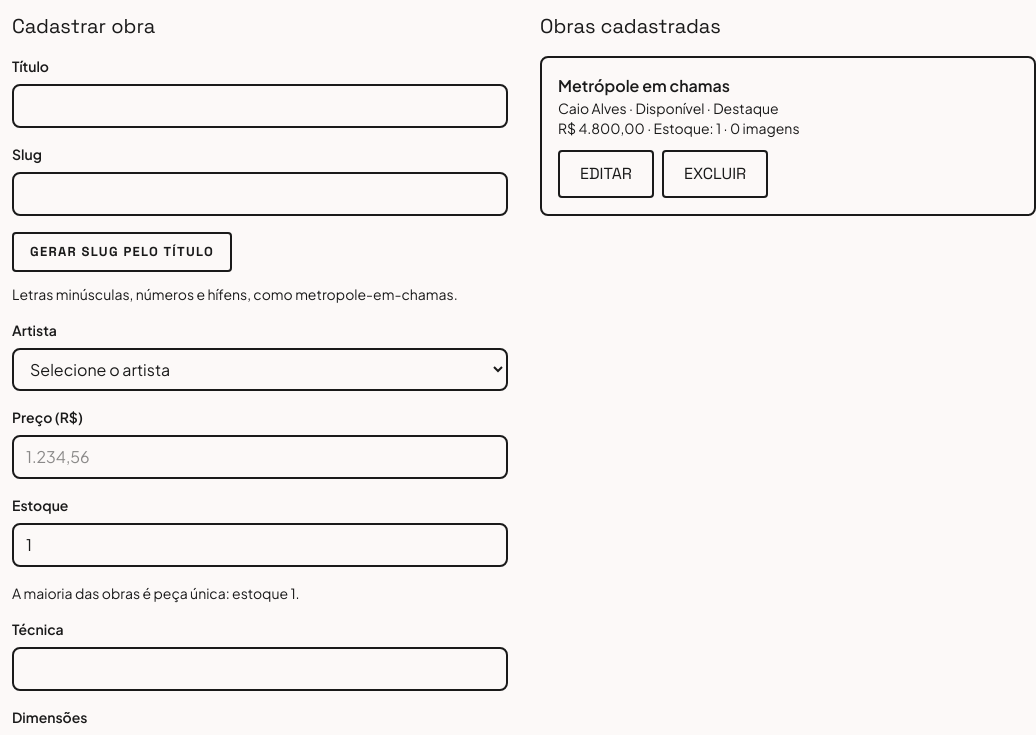
Scenario: RF26 só exclui depois da confirmação
What coordinates should you click on to do the following:
click the button with aria-label "Excluir Metrópole em chamas"
I would click on:
 (715, 174)
Its box is [662,150,768,198].
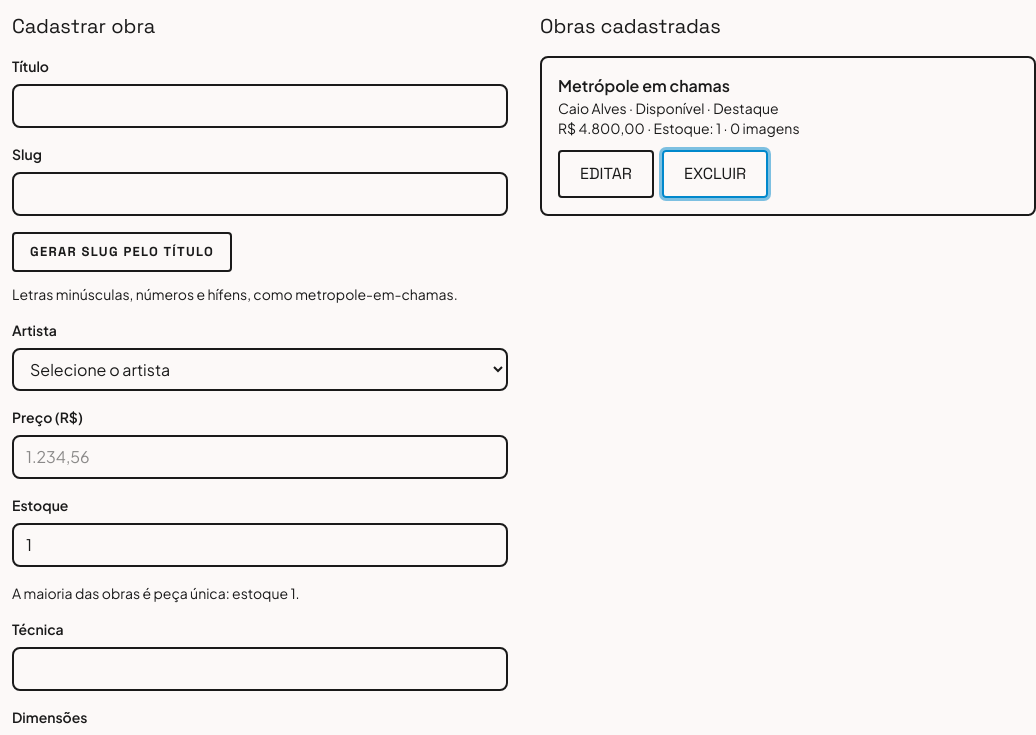
What coordinates should you click on to do the following:
click the button with aria-label "Excluir Metrópole em chamas"
I would click on:
 (715, 174)
Its box is [662,150,768,198].
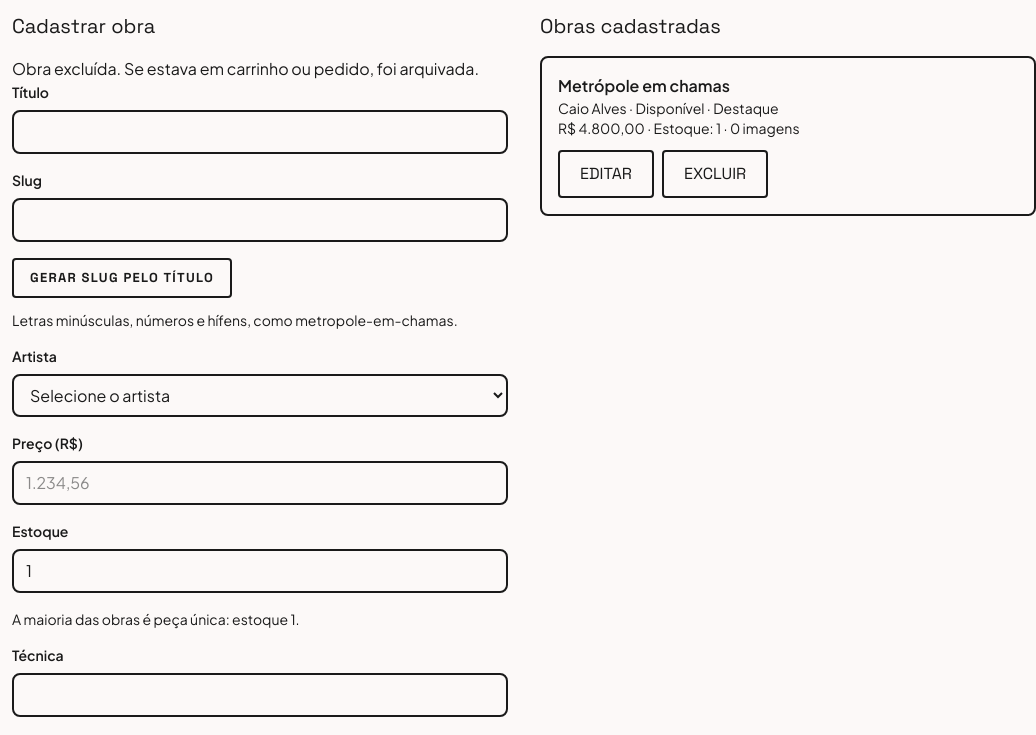
Check: the message "Obra excluída. Se estava em carrinho ou pedido, foi arquivada." is shown, box [12,56,508,82]
